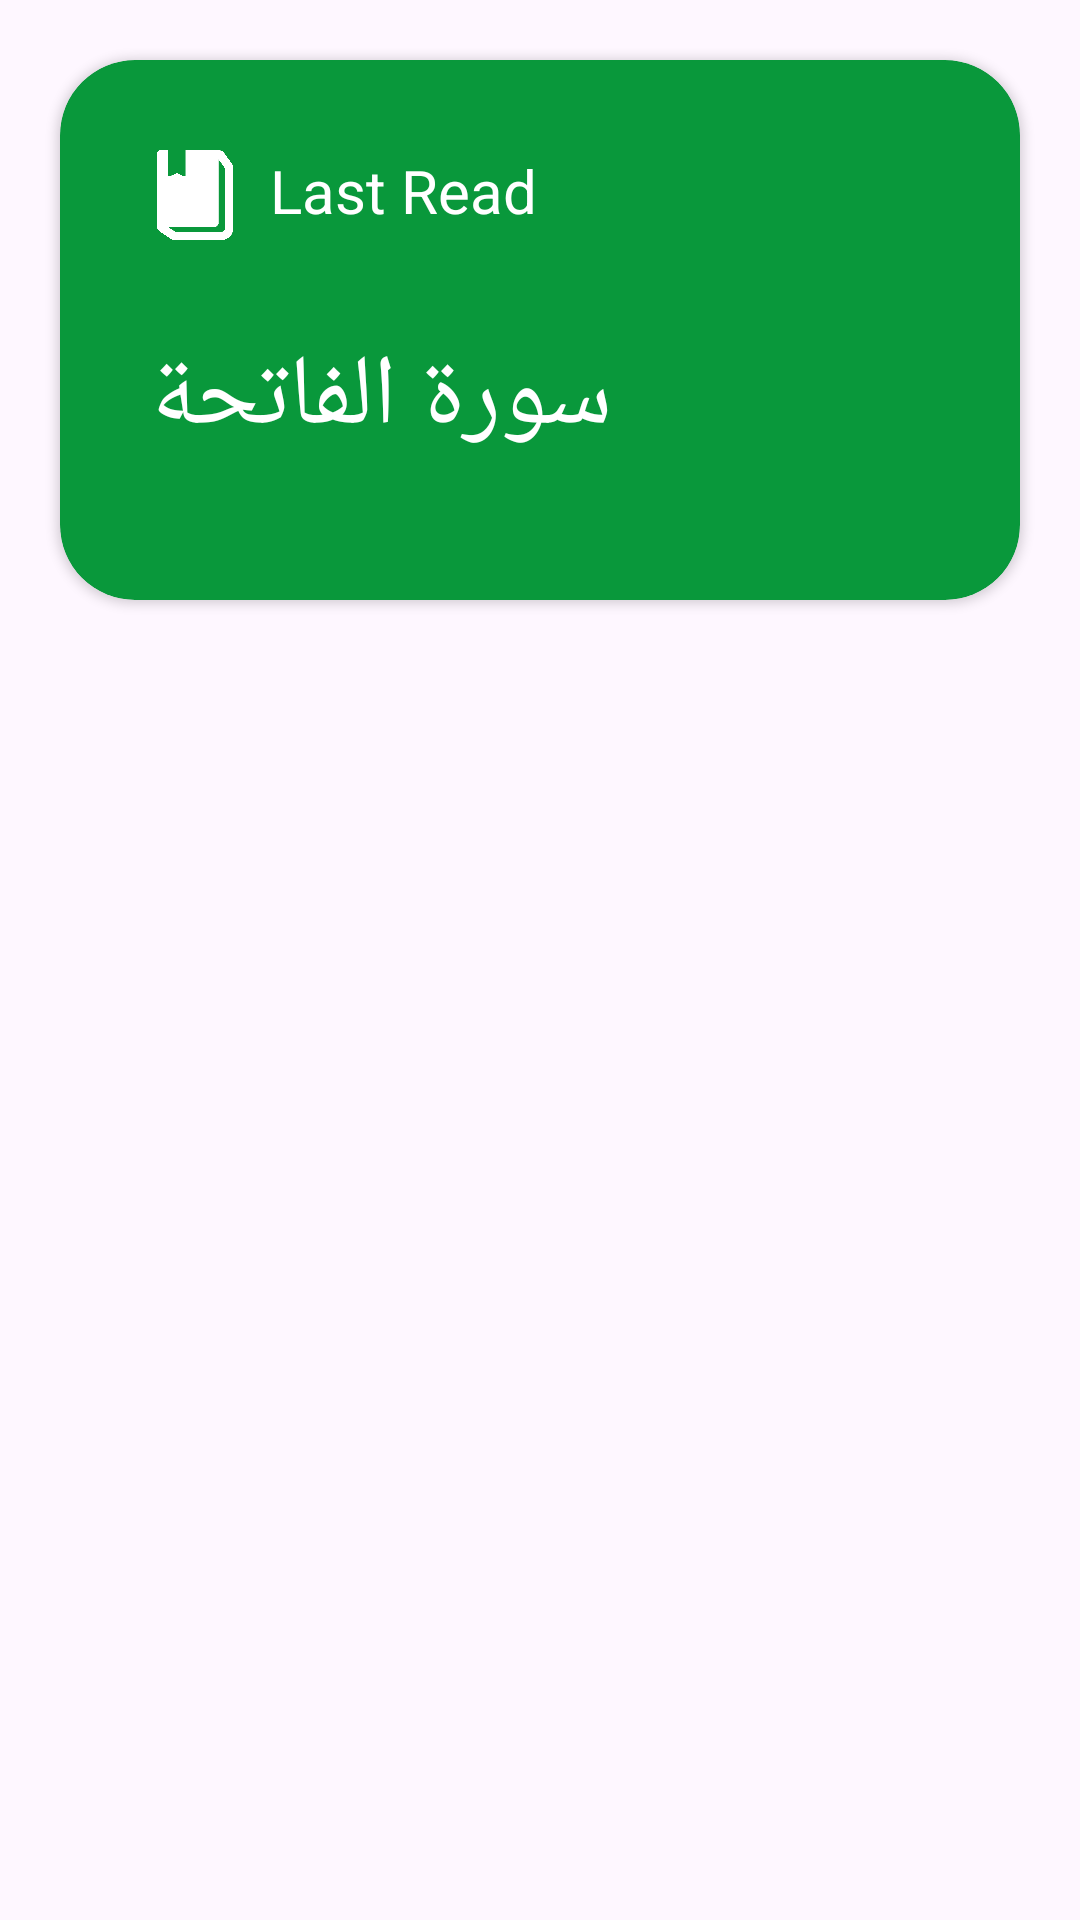

Screen size 1080 × 1920. Icon name, then its box in pixels as (x1, y1, x2, y2):
bookmark: (157, 150, 233, 240)
